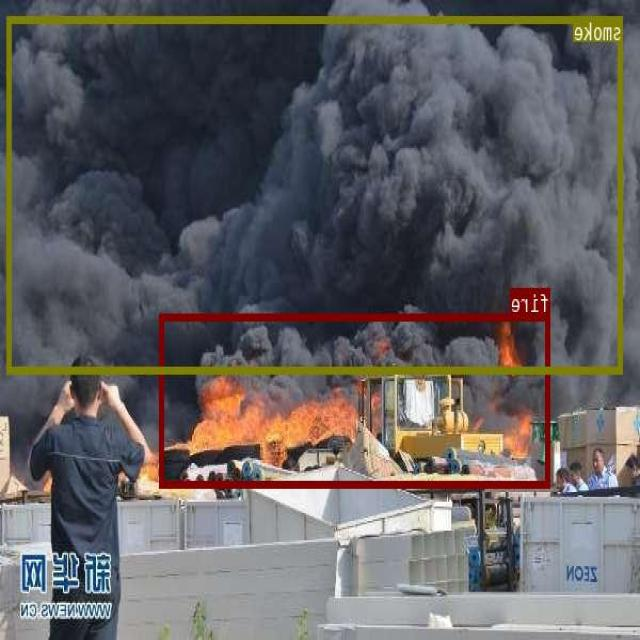fire: (161, 312, 550, 486)
smoke: (8, 16, 623, 373)
